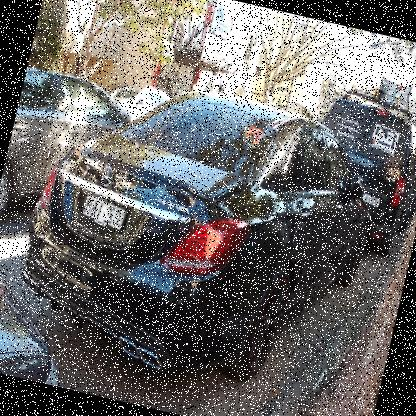Car: (3, 56, 396, 415), (0, 67, 138, 253), (0, 257, 94, 390), (100, 76, 174, 131)
